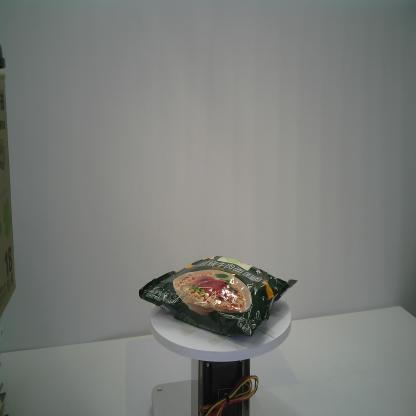Instant Noodles: (137, 252, 300, 340)
